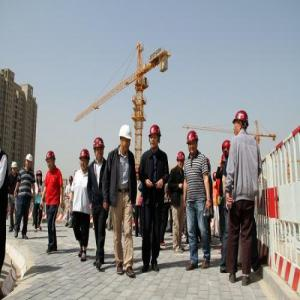red: (233, 110, 251, 138), (148, 124, 163, 151), (92, 136, 106, 162), (187, 130, 200, 156), (79, 149, 92, 172), (46, 151, 57, 171), (177, 151, 186, 171), (35, 169, 44, 184)
white: (118, 124, 133, 154), (25, 153, 33, 171), (11, 160, 19, 176)
